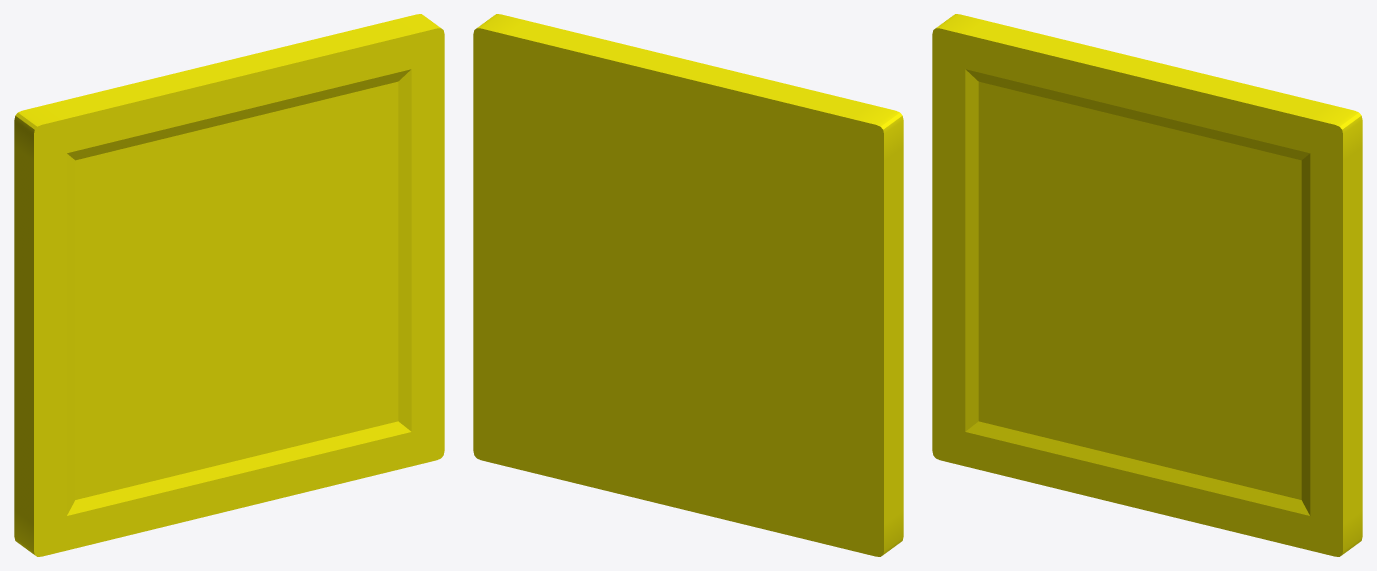
Rendered from umgebung_bilderrahmen_wand_mittel_low.FBX.
3 renders of one model, left to right at view 1: azimuth 30°, elevation 25°; view 2: azimuth 150°, elevation 25°; view 3: azimuth 330°, elevation 25°, orthographic.
Parts seen in each view (by area): view 1: o_bilderrahmen_mittel_low; view 2: o_bilderrahmen_mittel_low; view 3: o_bilderrahmen_mittel_low.
Boxes of the visible parts, x1=… form: o_bilderrahmen_mittel_low: x1=14, y1=14, x2=444, y2=556; o_bilderrahmen_mittel_low: x1=473, y1=14, x2=903, y2=556; o_bilderrahmen_mittel_low: x1=932, y1=14, x2=1362, y2=556.
Size of the model in its own units: 114 by 9.36 by 114.
